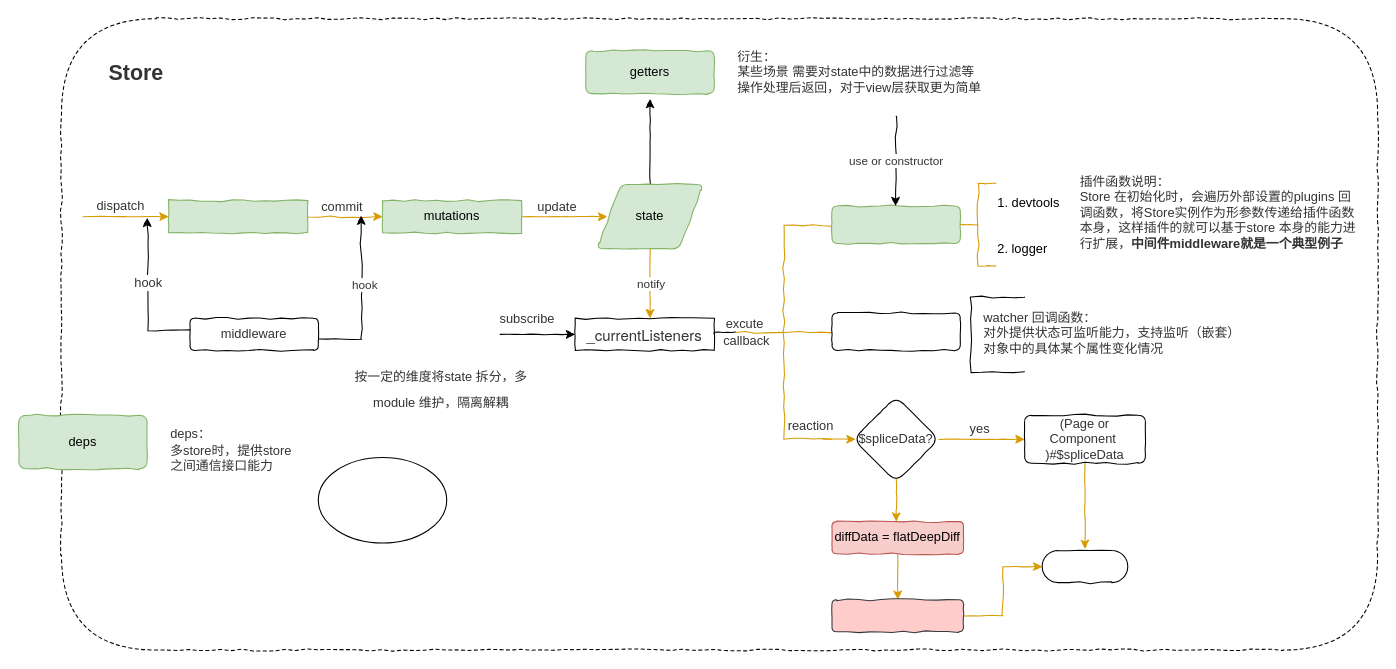
Some shapes in this 1396 by 669 pixel diagram are drawn without their labels. The centre of each missing label's shape, as x and y in pixels:
"actions" belongs at (x=237, y=216).
"plugin" belongs at (x=895, y=224).
"refresh view" belongs at (x=1084, y=566).
"setData" belongs at (x=897, y=615).
"watcher" belongs at (x=895, y=331).
